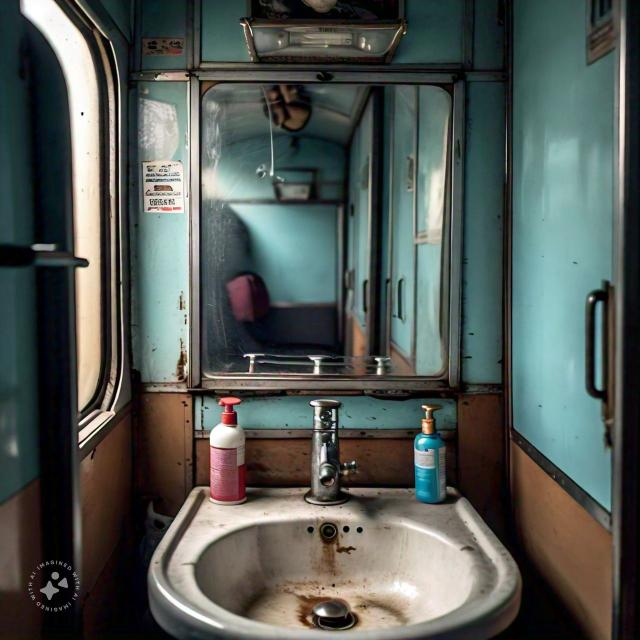Washbasin: (150, 345, 606, 639)
